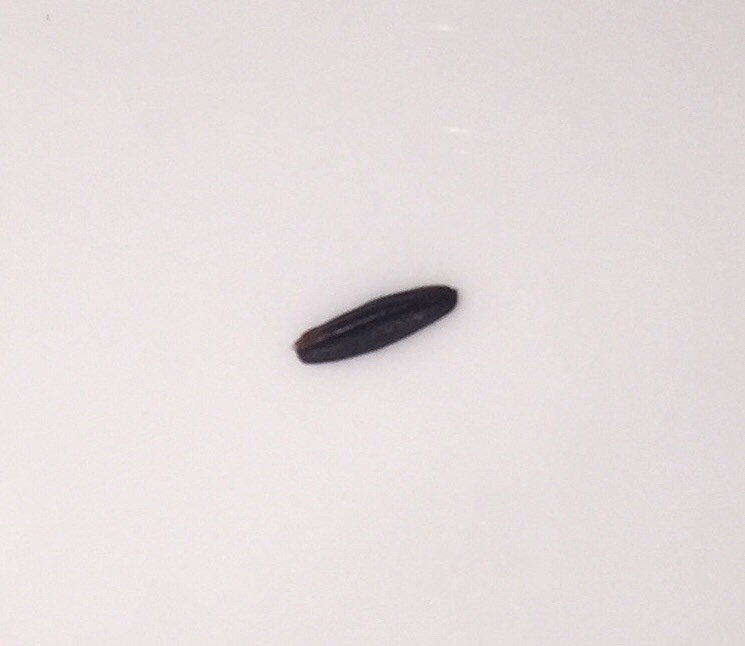Gao Nep Cam: (289, 262, 461, 389)
